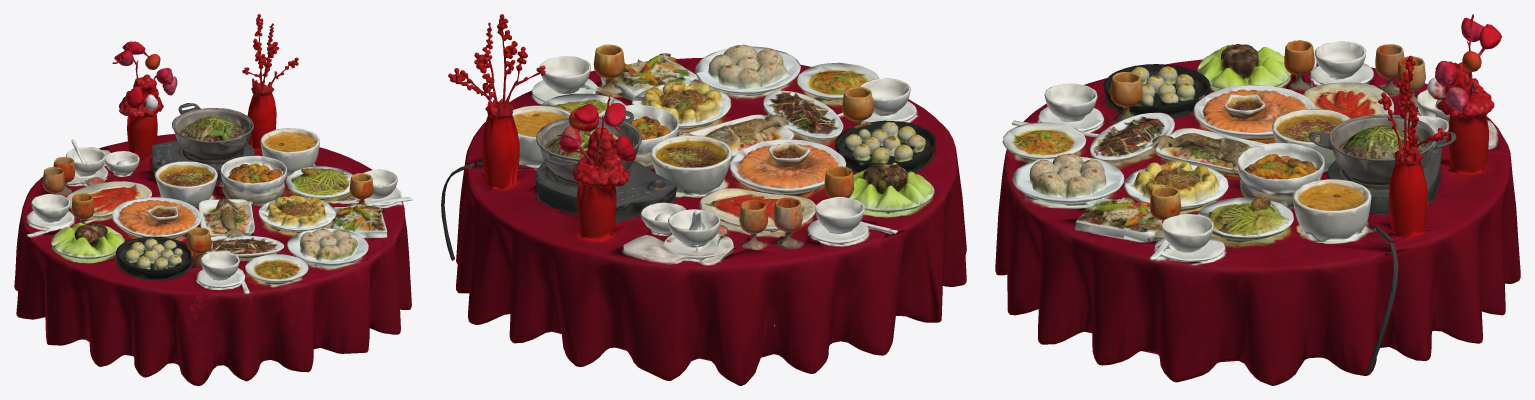
Rendered from weiya.glb.
3 renders of one model, left to right at view 1: azimuth 30°, elevation 25°; view 2: azimuth 150°, elevation 25°; view 3: azimuth 270°, elevation 25°, orthographic. The views are drawn at different scales.
Parts seen in each view (by area): view 1: tripo_node_2c38fa72-c324-4553-98c8-15e1c5df051a; view 2: tripo_node_2c38fa72-c324-4553-98c8-15e1c5df051a; view 3: tripo_node_2c38fa72-c324-4553-98c8-15e1c5df051a.
Part boxes in pixels (bbox=[...]): tripo_node_2c38fa72-c324-4553-98c8-15e1c5df051a: bbox=[14, 14, 412, 385]; tripo_node_2c38fa72-c324-4553-98c8-15e1c5df051a: bbox=[441, 14, 966, 385]; tripo_node_2c38fa72-c324-4553-98c8-15e1c5df051a: bbox=[995, 14, 1520, 385].
Bounding box in the file's own units: 0.4185 × 0.2547 × 0.42.
Materials: 1 (1 with a texture image).
